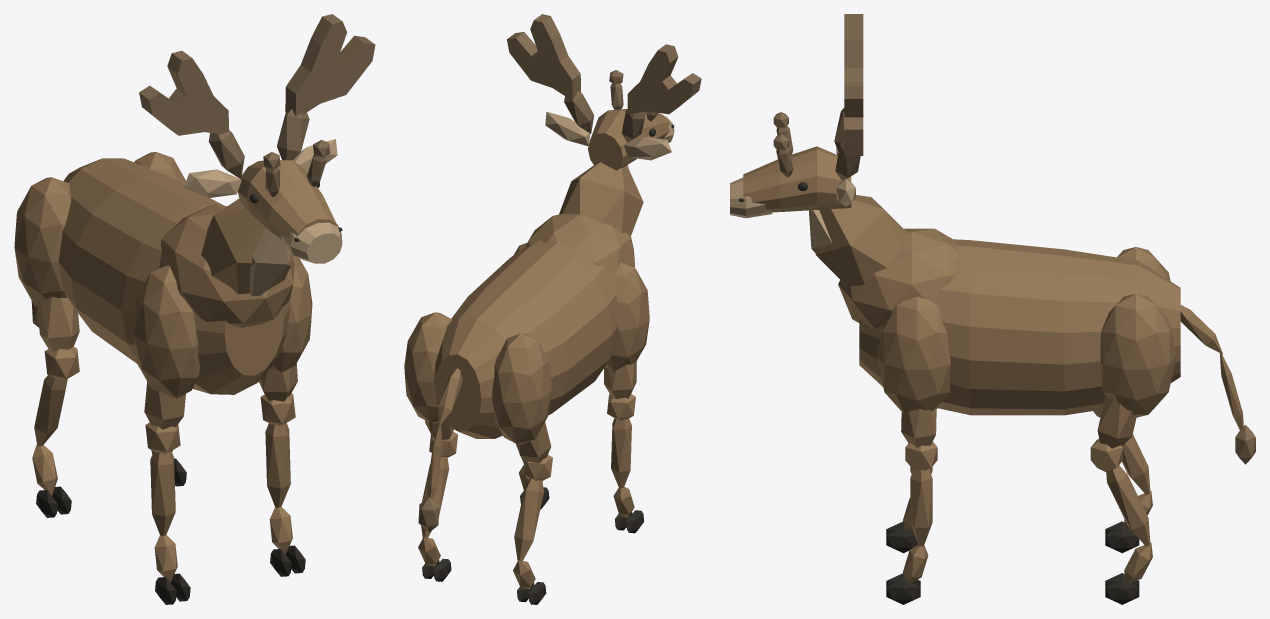
The picture shows the model from 3 angles, left to right: view 1: azimuth 30°, elevation 25°; view 2: azimuth 150°, elevation 25°; view 3: azimuth 270°, elevation 25°; orthographic projection. The views are drawn at different scales.
Parts seen in each view (by area): view 1: surface_warm_umber, surface_subdued_ossicones, surface_lighter_muzzle_throat, surface_hooves_eyes; view 2: surface_warm_umber, surface_subdued_ossicones, surface_lighter_muzzle_throat, surface_hooves_eyes; view 3: surface_warm_umber, surface_subdued_ossicones, surface_hooves_eyes, surface_lighter_muzzle_throat.
Boxes of the visible parts, x1,y1,x2,y2 form: surface_warm_umber: (14, 152, 337, 582); surface_subdued_ossicones: (31, 14, 375, 327); surface_lighter_muzzle_throat: (183, 139, 342, 296); surface_hooves_eyes: (36, 182, 342, 604); surface_warm_umber: (404, 109, 670, 589); surface_subdued_ossicones: (418, 14, 701, 532); surface_lighter_muzzle_throat: (545, 112, 674, 168); surface_hooves_eyes: (422, 124, 674, 604); surface_warm_umber: (743, 146, 1243, 582); surface_subdued_ossicones: (773, 14, 1255, 464); surface_hooves_eyes: (738, 182, 1139, 604); surface_lighter_muzzle_throat: (730, 147, 855, 284).
Size of the model in its own units: 0.456 by 1.1 by 0.9976.
